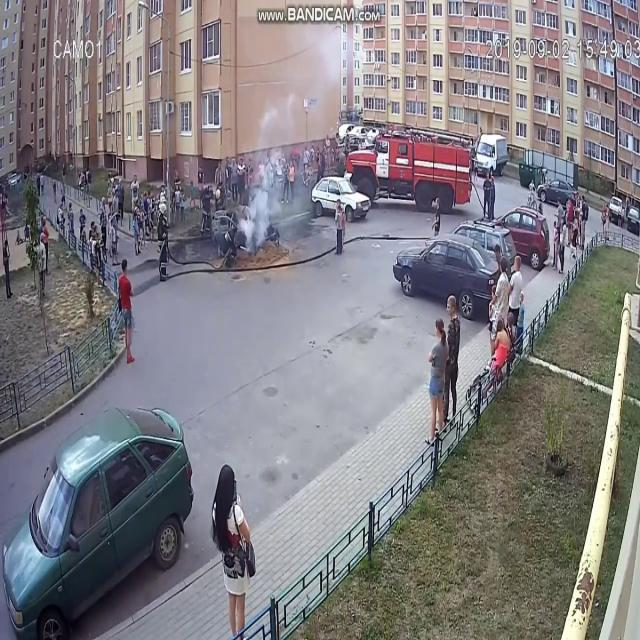Smoke: (242, 29, 336, 255)
